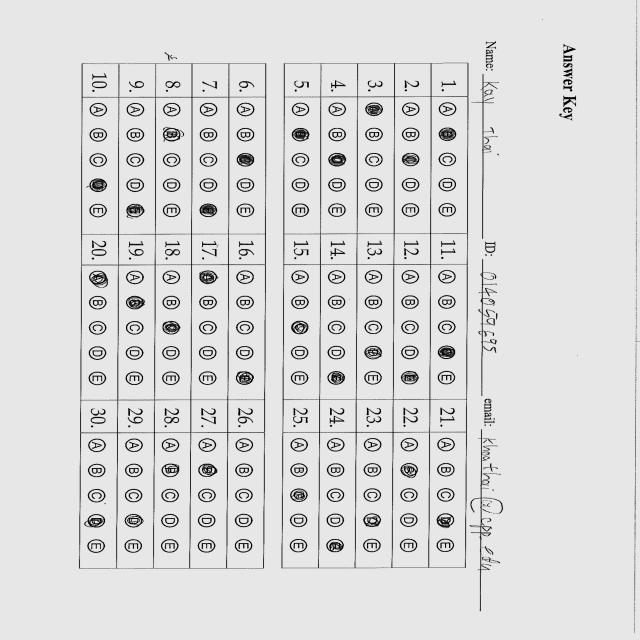EMAIL: (467, 429, 518, 612)
ID: (476, 261, 522, 397)
Name: (474, 73, 508, 240)
Q10_A_Unmarked: (88, 99, 114, 121)
Q10_B_Unmarked: (88, 124, 111, 144)
Q10_C_Unmarked: (86, 150, 112, 170)
Q10_D_Marked: (86, 177, 110, 195)
Q10_E_Unmarked: (86, 203, 112, 223)
Q11_A_Unmarked: (436, 268, 462, 287)
Q11_B_Unmarked: (436, 292, 460, 312)
Q11_C_Unmarked: (436, 318, 461, 338)
Q11_D_Marked: (436, 343, 460, 362)
Q11_E_Unmarked: (437, 368, 459, 390)
Q12_A_Unmarked: (397, 268, 425, 288)
Q12_B_Unmarked: (399, 293, 425, 313)
Q12_C_Unmarked: (399, 318, 423, 338)
Q12_D_Unmarked: (399, 344, 423, 364)
Q12_E_Marked: (399, 368, 423, 388)
Q13_A_Unmarked: (362, 266, 388, 288)
Q13_B_Unmarked: (362, 293, 388, 315)
Q13_C_Unmarked: (362, 318, 388, 338)
Q13_D_Marked: (362, 345, 390, 365)
Q13_E_Unmarked: (361, 371, 386, 388)
Q14_A_Unmarked: (324, 268, 350, 288)
Q14_B_Unmarked: (326, 292, 352, 314)
Q14_C_Unmarked: (326, 318, 348, 340)
Q14_D_Marked: (324, 368, 350, 390)
Q14_D_Unmarked: (326, 344, 352, 365)
Q15_A_Unmarked: (290, 268, 314, 288)
Q15_B_Unmarked: (290, 292, 316, 314)
Q15_C_Marked: (288, 317, 314, 338)
Q15_D_Unmarked: (290, 344, 314, 366)
Q15_E_Unmarked: (288, 370, 314, 390)
Q16_A_Unmarked: (233, 268, 261, 290)
Q16_B_Unmarked: (233, 294, 259, 314)
Q16_C_Unmarked: (232, 318, 260, 340)
Q16_D_Unmarked: (232, 343, 262, 365)
Q16_E_Marked: (233, 367, 259, 391)
Q17_A_Marked: (197, 268, 220, 286)
Q17_B_Unmarked: (198, 292, 222, 313)
Q17_C_Unmarked: (198, 318, 220, 338)
Q17_D_Unmarked: (197, 342, 224, 364)
Q17_E_Unmarked: (196, 370, 220, 390)
Q18_A_Unmarked: (160, 268, 186, 290)
Q18_B_Unmarked: (160, 292, 186, 312)
Q18_C_Marked: (159, 317, 185, 340)
Q18_D_Unmarked: (160, 342, 184, 364)
Q18_E_Unmarked: (160, 369, 186, 390)
Q19_A_Unmarked: (123, 268, 150, 290)
Q19_B_Marked: (122, 290, 148, 314)
Q19_C_Unmarked: (123, 320, 149, 340)
Q19_D_Unmarked: (122, 344, 148, 362)
Q19_E_Unmarked: (124, 370, 148, 390)
Q1_A_Unmarked: (436, 100, 462, 120)
Q1_B_Marked: (435, 125, 462, 146)
Q1_C_Unmarked: (434, 149, 462, 170)
Q1_D_Unmarked: (436, 173, 462, 195)
Q1_E_Unmarked: (435, 200, 462, 222)
Q20_B_Unmarked: (84, 292, 110, 312)
Q20_C_Unmarked: (82, 315, 110, 339)
Q20_D_Unmarked: (84, 344, 110, 362)
Q20_E_Unmarked: (85, 369, 112, 392)
Q21_A_Unmarked: (430, 434, 460, 458)
Q21_B_Unmarked: (432, 460, 460, 480)
Q21_C_Unmarked: (431, 486, 458, 508)
Q21_D_Marked: (432, 510, 457, 530)
Q21_E_Unmarked: (430, 537, 460, 557)
Q22_A_Unmarked: (396, 436, 421, 456)
Q22_C_Unmarked: (396, 486, 421, 506)
Q22_D_Unmarked: (394, 509, 422, 532)
Q22_E_Unmarked: (394, 536, 424, 558)
Q23_A_Unmarked: (358, 434, 390, 456)
Q23_B_Marked: (159, 126, 189, 144)
Q23_B_Unmarked: (358, 458, 390, 481)
Q23_C_Unmarked: (358, 486, 386, 508)
Q23_D_Marked: (358, 508, 390, 532)
Q23_E_Unmarked: (358, 537, 388, 558)
Q24_A_Unmarked: (321, 436, 351, 457)
Q24_B_Unmarked: (322, 462, 351, 482)
Q24_C_Unmarked: (321, 484, 351, 506)
Q24_D_Unmarked: (322, 509, 349, 534)
Q24_E_Marked: (320, 536, 350, 560)
Q25_A_Unmarked: (282, 436, 314, 458)
Q25_B_Unmarked: (284, 460, 314, 482)
Q25_C_Marked: (284, 482, 314, 506)
Q25_D_Unmarked: (286, 512, 316, 533)
Q25_E_Unmarked: (283, 538, 315, 560)
Q26_A_Marked: (85, 268, 112, 288)
Q26_A_Unmarked: (230, 436, 258, 456)
Q26_B_Unmarked: (230, 461, 259, 481)
Q26_C_Unmarked: (229, 484, 259, 506)
Q26_D_Unmarked: (227, 513, 260, 534)
Q26_E_Unmarked: (229, 535, 262, 561)
Q27_A_Unmarked: (194, 437, 222, 457)
Q27_B_Marked: (192, 462, 220, 482)
Q27_C_Unmarked: (191, 486, 219, 507)
Q27_D_Unmarked: (192, 509, 222, 532)
Q27_E_Unmarked: (192, 536, 220, 559)
Q28_A_Unmarked: (154, 435, 186, 459)
Q28_B_Marked: (157, 460, 183, 482), (395, 460, 421, 480)
Q28_C_Unmarked: (156, 486, 182, 504)
Q28_D_Unmarked: (156, 512, 184, 535)
Q28_E_Unmarked: (156, 538, 184, 559)
Q29_A_Unmarked: (119, 435, 149, 458)
Q29_B_Unmarked: (119, 458, 147, 482)
Q29_C_Unmarked: (120, 486, 148, 506)
Q29_D_Marked: (119, 512, 149, 530)
Q29_E_Unmarked: (119, 537, 147, 559)
Q2_B_Unmarked: (397, 124, 423, 144)
Q2_D_Unmarked: (396, 175, 426, 197)
Q2_E_Unmarked: (398, 200, 426, 222), (161, 204, 187, 224)
Q30_A_Unmarked: (83, 437, 111, 459)
Q30_B_Unmarked: (82, 460, 112, 481)
Q30_C_Unmarked: (82, 486, 112, 506)
Q30_D_Marked: (81, 509, 113, 533)
Q30_E_Unmarked: (82, 537, 110, 557)
Q3_A_Marked: (362, 98, 388, 120)
Q3_B_Unmarked: (363, 125, 387, 146)
Q3_C_Unmarked: (362, 150, 388, 170)
Q3_D_Unmarked: (363, 174, 385, 197)
Q3_E_Unmarked: (364, 201, 386, 221)
Q4_A_Unmarked: (398, 100, 425, 120), (326, 100, 352, 120)
Q4_B_Unmarked: (326, 125, 352, 145)
Q4_C_Marked: (396, 147, 426, 170), (326, 150, 354, 172)
Q4_D_Unmarked: (326, 175, 352, 197)
Q4_E_Unmarked: (327, 202, 352, 222)
Q5_A_Unmarked: (290, 100, 314, 124)
Q5_B_Marked: (290, 125, 314, 146)
Q5_C_Unmarked: (290, 151, 314, 169)
Q5_D_Unmarked: (288, 174, 314, 196)
Q5_E_Unmarked: (288, 200, 316, 224)
Q6_A_Unmarked: (231, 100, 261, 120)
Q6_B_Unmarked: (232, 124, 260, 144)
Q6_C_Marked: (233, 150, 263, 170)
Q6_D_Unmarked: (233, 176, 261, 196)
Q6_E_Unmarked: (233, 200, 259, 222)
Q7_A_Unmarked: (198, 102, 222, 120)
Q7_B_Unmarked: (199, 126, 221, 146)
Q7_C_Unmarked: (198, 150, 223, 170)
Q7_D_Unmarked: (198, 177, 224, 196)
Q7_E_Marked: (196, 201, 224, 223)
Q8_A_Unmarked: (160, 100, 189, 120)
Q8_C_Unmarked: (160, 152, 186, 172)
Q8_D_Unmarked: (161, 178, 187, 200)
Q9_A_Unmarked: (124, 101, 150, 121)
Q9_B_Unmarked: (126, 125, 150, 146)
Q9_C_Unmarked: (125, 152, 149, 172)
Q9_D_Unmarked: (125, 176, 149, 196)
Q9_E_Marked: (124, 201, 150, 225)
